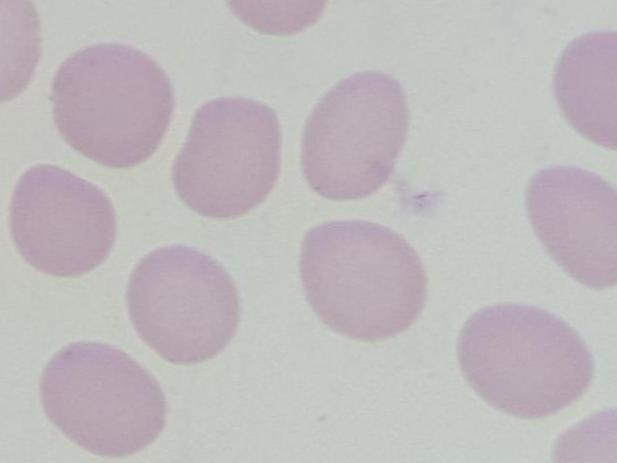Uninfected: (456, 299, 590, 420), (49, 43, 172, 168), (36, 339, 165, 457), (300, 222, 425, 338), (304, 70, 406, 203), (174, 95, 281, 217), (6, 162, 116, 280), (126, 250, 239, 363), (526, 164, 617, 286)
